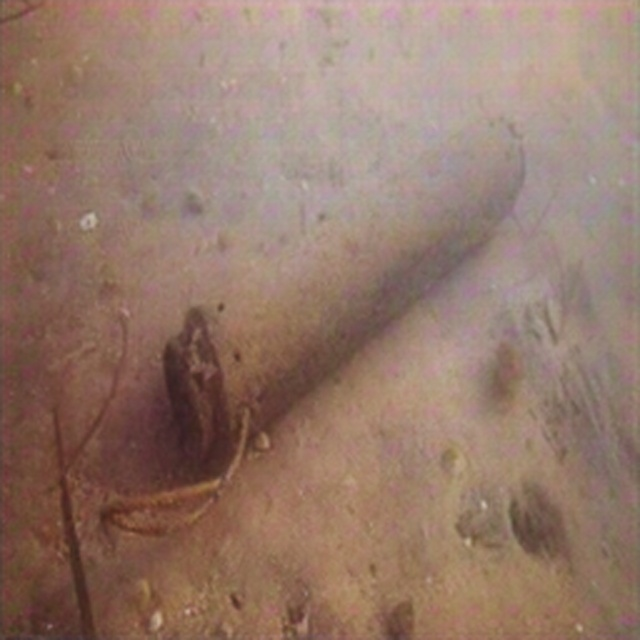mine: (163, 112, 525, 464)
